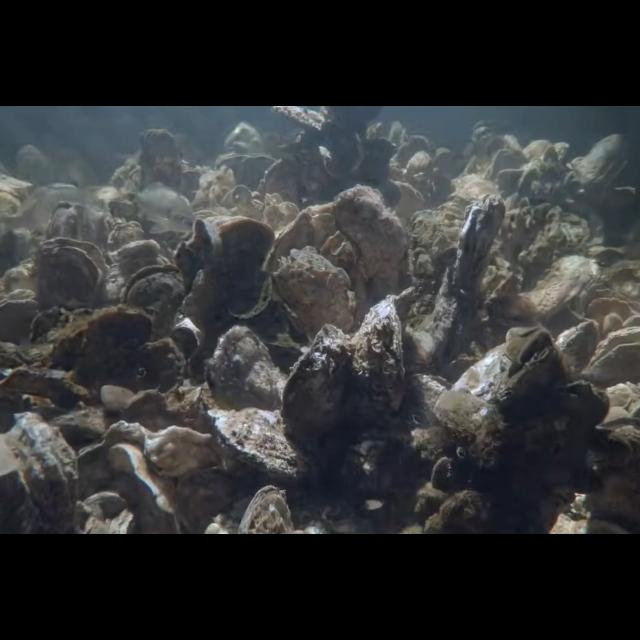Oyster-Closed: (430, 194, 506, 344), (280, 323, 356, 452), (0, 412, 78, 534), (331, 184, 409, 302), (205, 408, 312, 487), (273, 245, 355, 338), (50, 305, 154, 371), (204, 324, 276, 412), (351, 296, 403, 416), (518, 255, 608, 321), (220, 218, 276, 320), (406, 209, 456, 321), (554, 320, 602, 386), (131, 336, 187, 392), (235, 485, 293, 535), (0, 298, 44, 344), (99, 383, 137, 413)
Oyster-Open: (450, 328, 562, 410), (35, 236, 111, 310), (122, 262, 186, 338), (580, 326, 640, 390), (174, 217, 220, 286)
